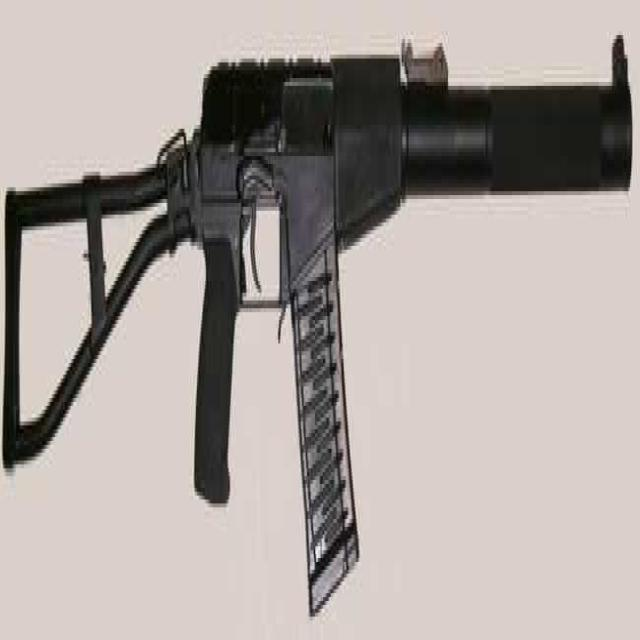heavyweapon: (3, 1, 640, 640)
